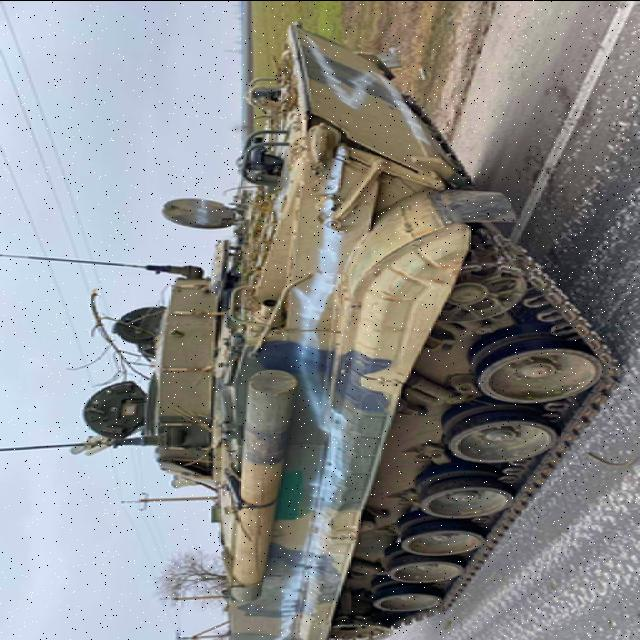APC-IFV: (67, 20, 622, 636)
